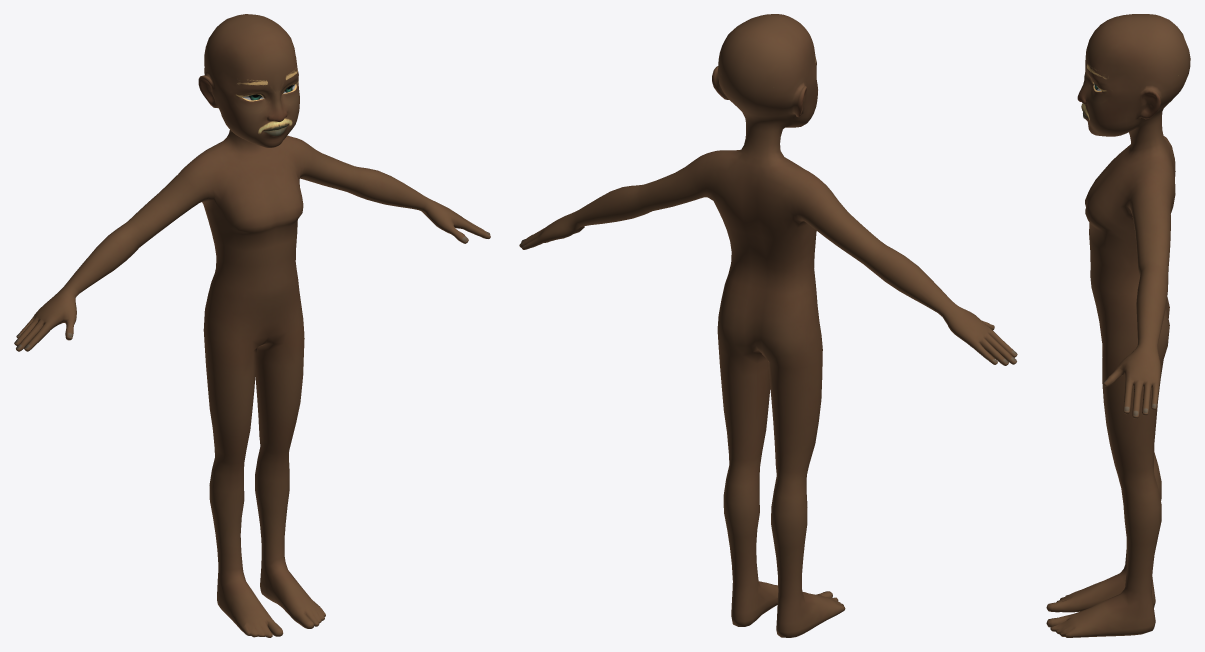
The model's file is frame_0040.glb.
The picture shows the model from 3 angles, left to right: view 1: azimuth 30°, elevation 25°; view 2: azimuth 150°, elevation 25°; view 3: azimuth 270°, elevation 25°; orthographic projection. The views are drawn at different scales.
Visible parts, largest first — view 1: frame_0040_head_geo; view 2: frame_0040_head_geo; view 3: frame_0040_head_geo.
Boxes of the visible parts, left/top/right/bottom form: frame_0040_head_geo: left=14, top=14, right=490, bottom=637; frame_0040_head_geo: left=519, top=14, right=1017, bottom=637; frame_0040_head_geo: left=1046, top=14, right=1190, bottom=637.
Size of the model in its own units: 1.28 by 1.5 by 0.3253.
Materials: 3 (3 with a texture image).
